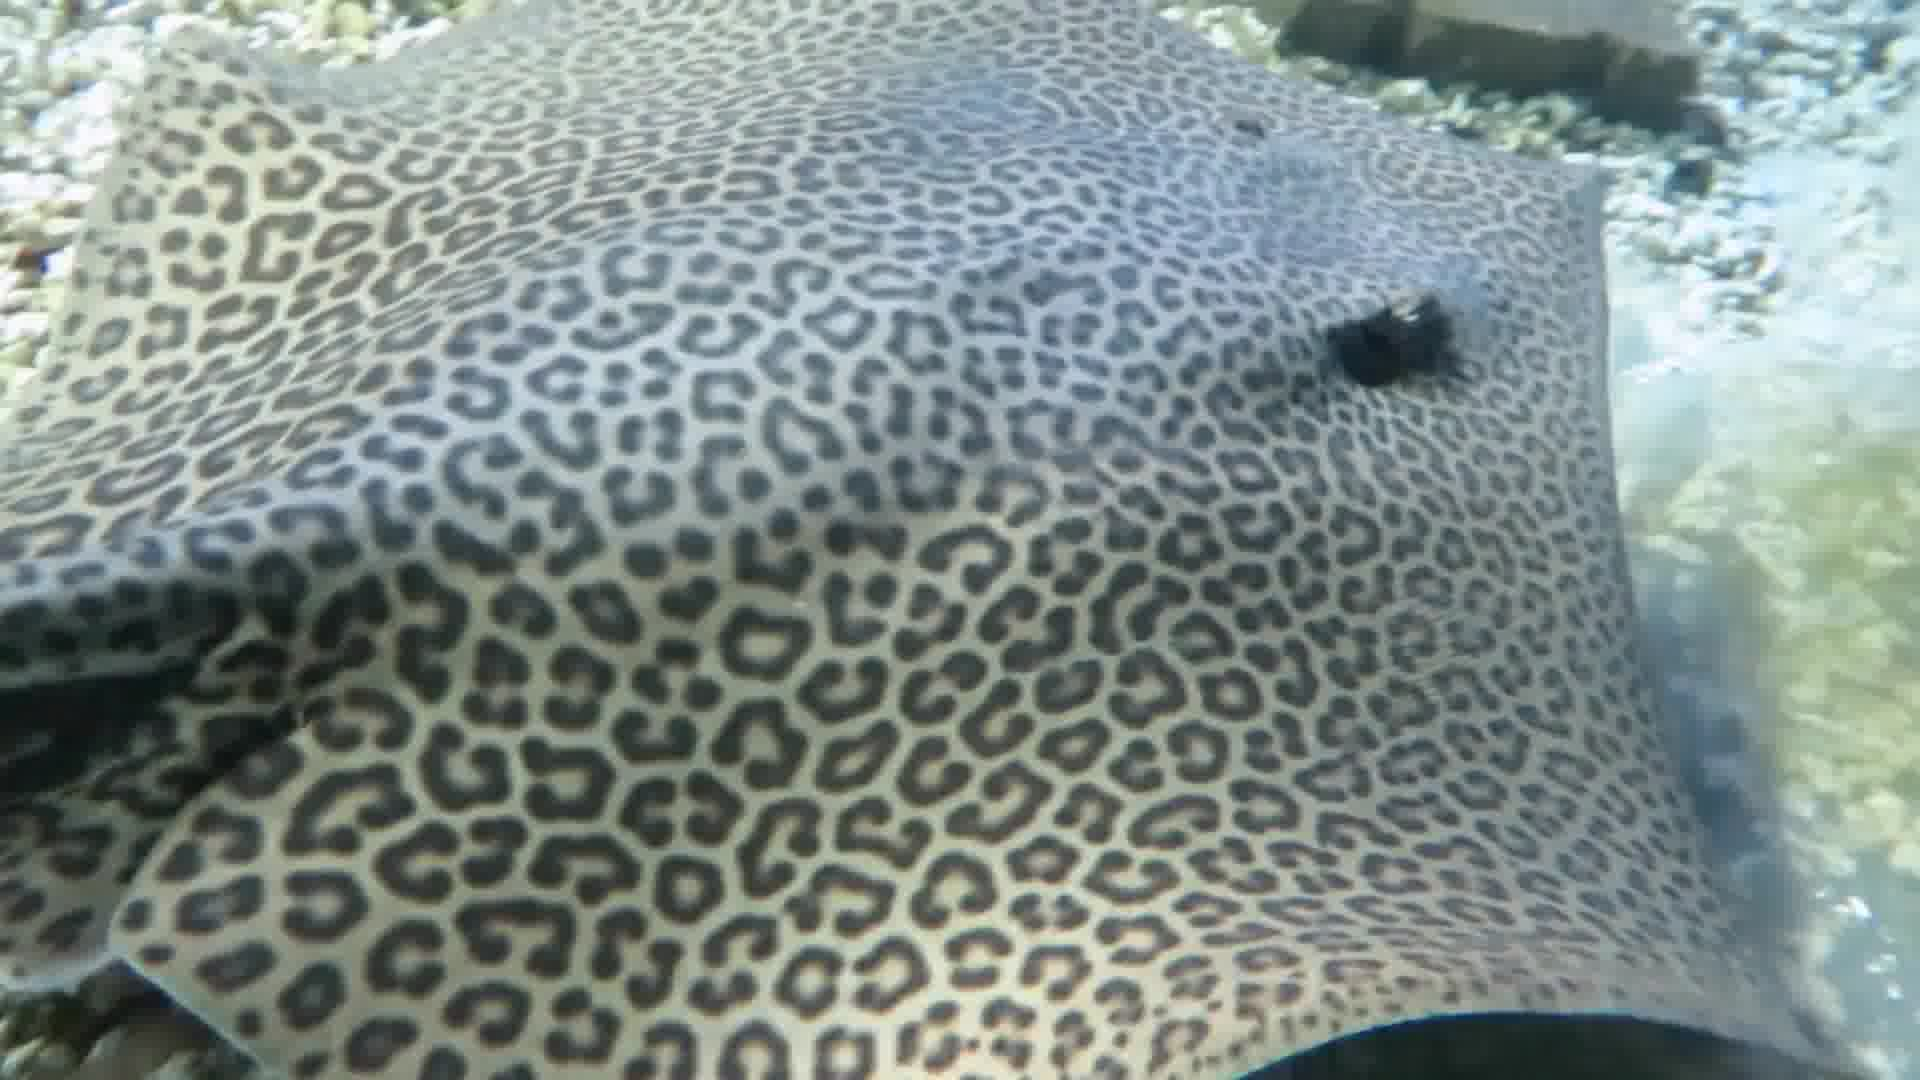Himantura uarnak: (1, 1, 1774, 1080)
